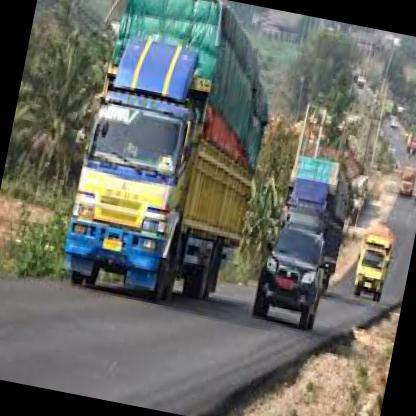truck: (57, 85, 206, 307), (351, 243, 390, 305)
